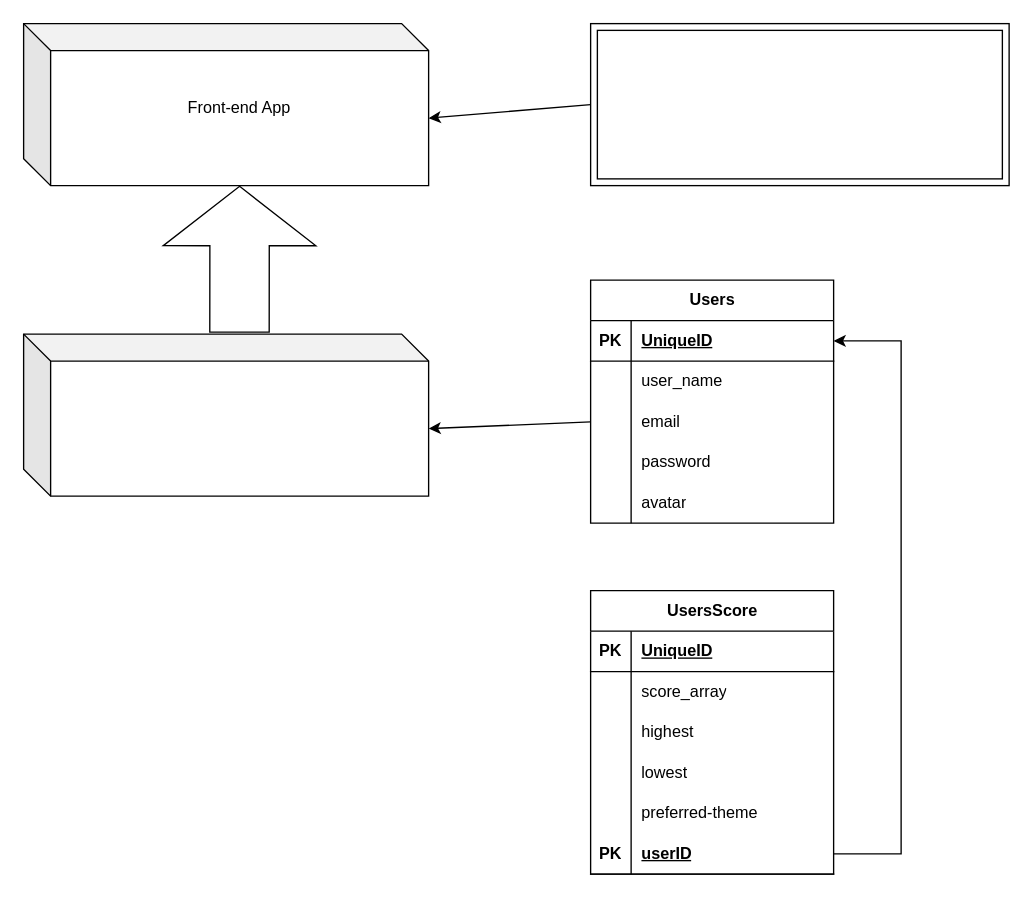
The diagram is 1033 pixels wide and 898 high, and some of its shapes have lost their labels. Each missing label, with the centre of its shape:
"API quizz" goes at (x=799, y=104).
"Back-end" goes at (x=225, y=414).
